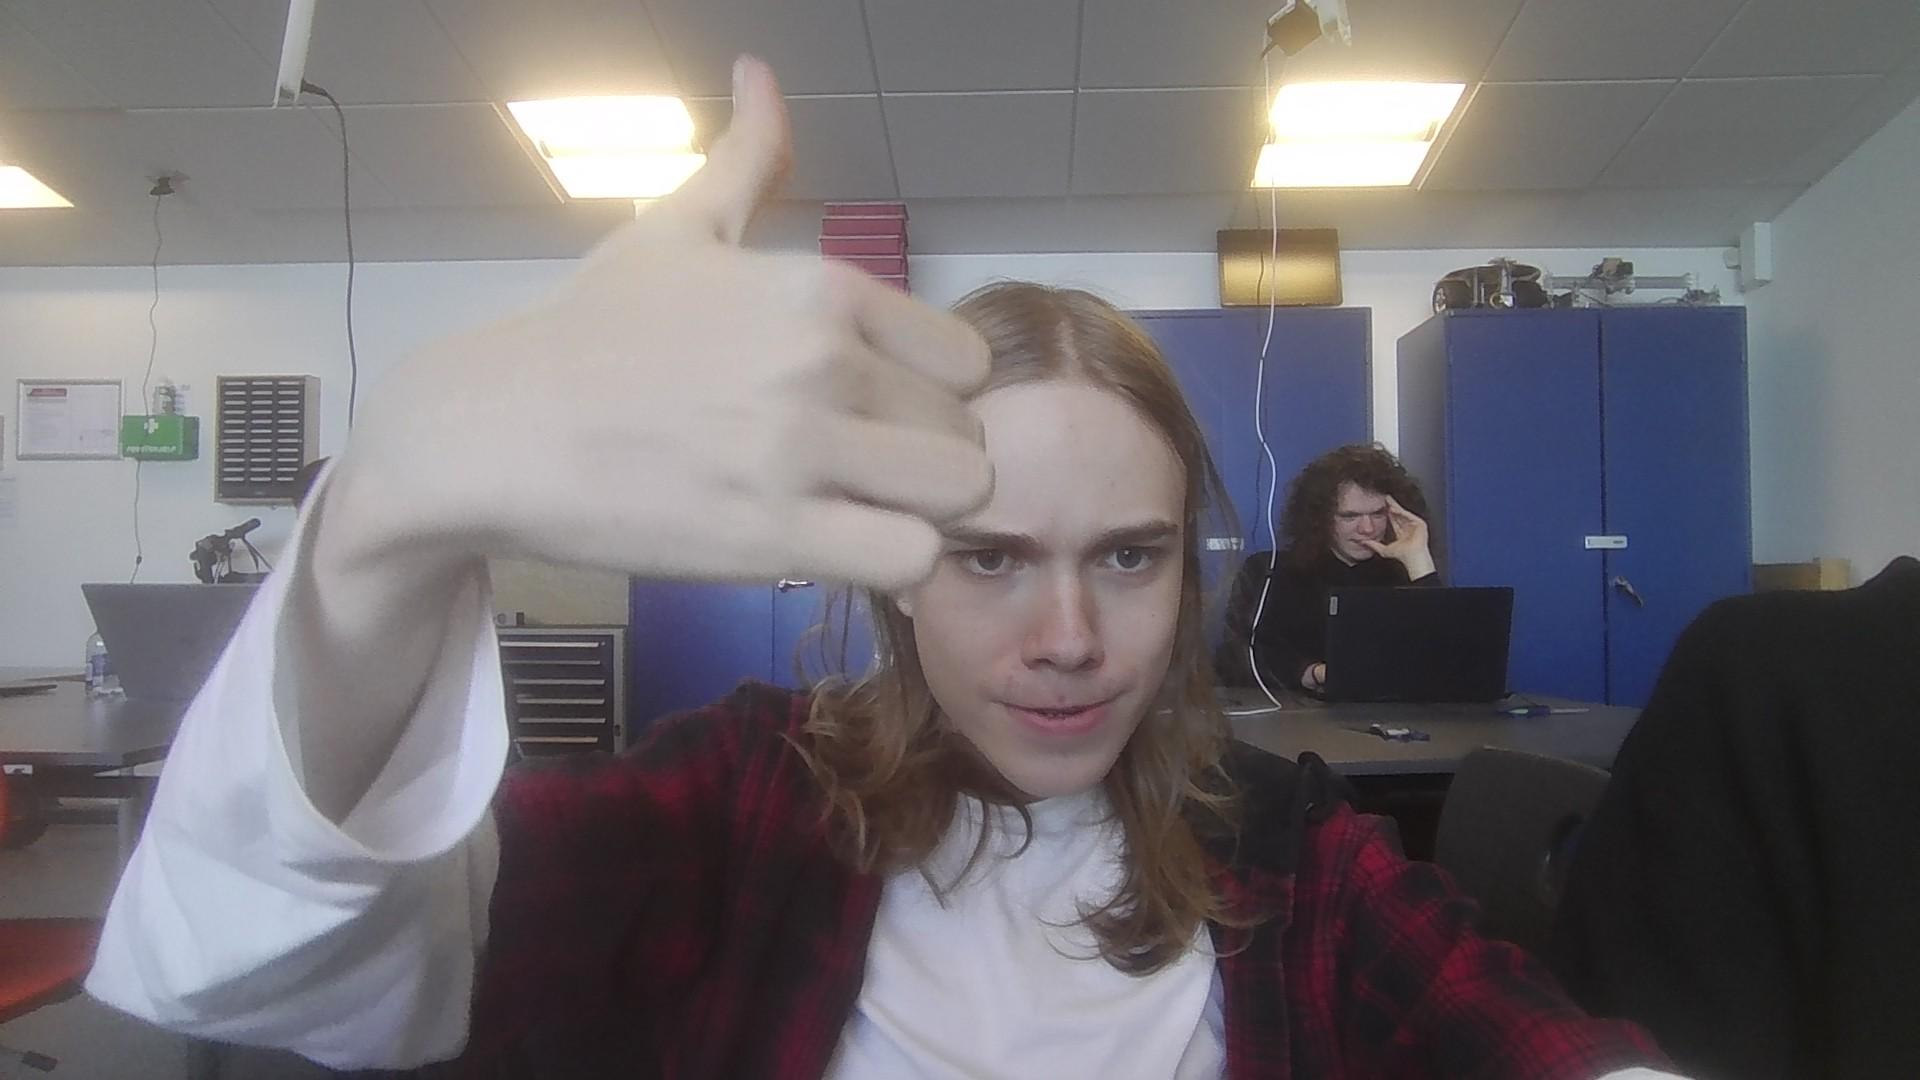thumbs up: (508, 46, 990, 605)
